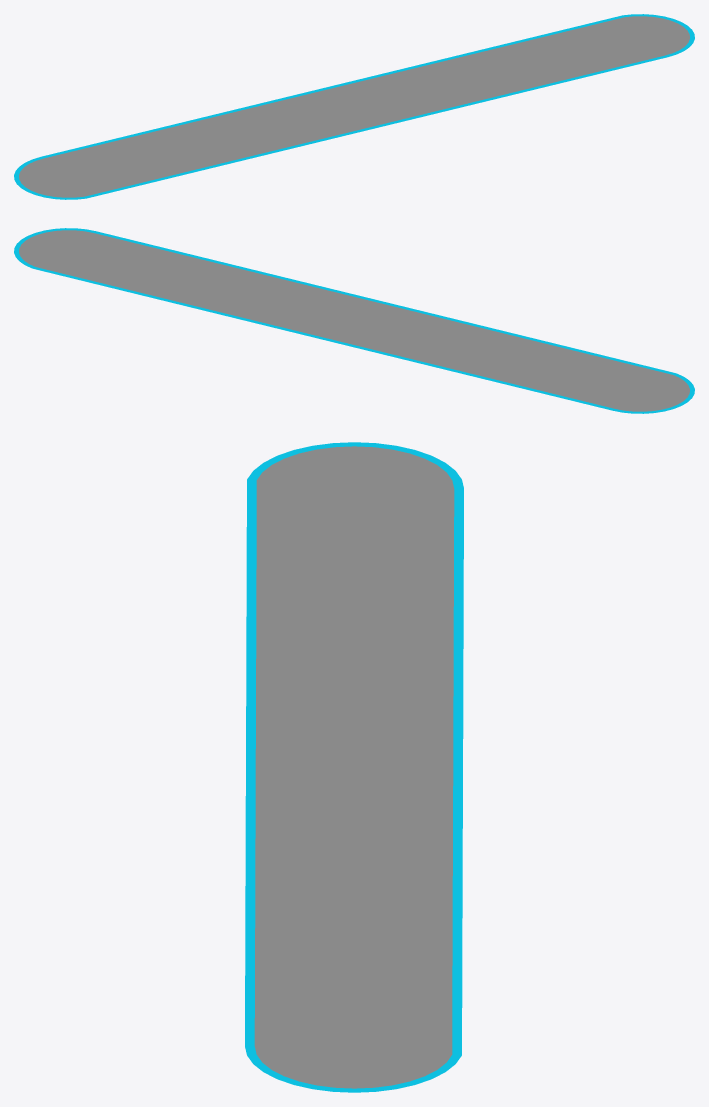
The model's file is 2D Buttons.FBX.
The picture shows the model from 3 angles, top to bottom: view 1: azimuth 30°, elevation 25°; view 2: azimuth 150°, elevation 25°; view 3: azimuth 270°, elevation 25°; orthographic projection. The views are drawn at different scales.
Parts seen in each view (by area): view 1: UI Museum Name Backing; view 2: UI Museum Name Backing; view 3: UI Museum Name Backing.
Part boxes in pixels (x1,y1,x2,y2): UI Museum Name Backing: (14,14,694,199); UI Museum Name Backing: (14,228,694,413); UI Museum Name Backing: (245,442,463,1092).
Bounding box in the file's own units: 61.24 × 4.44e-16 × 8.72.
